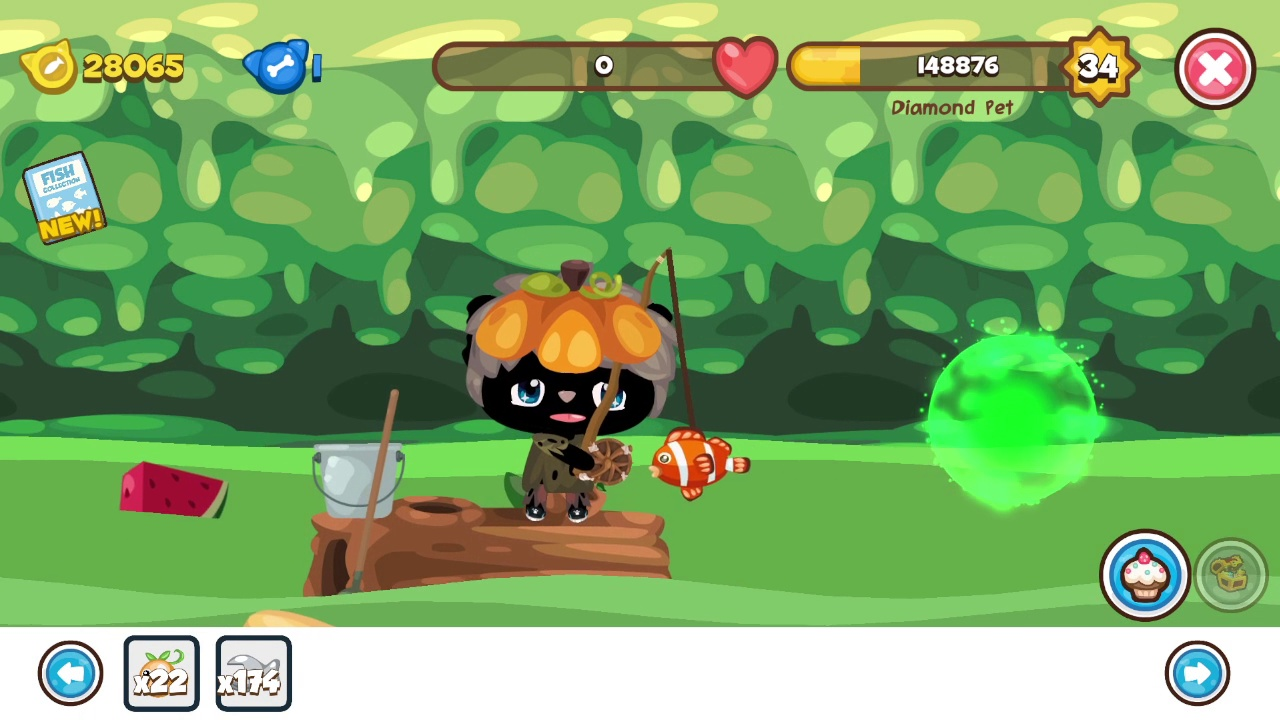point: (920, 330, 1102, 511)
